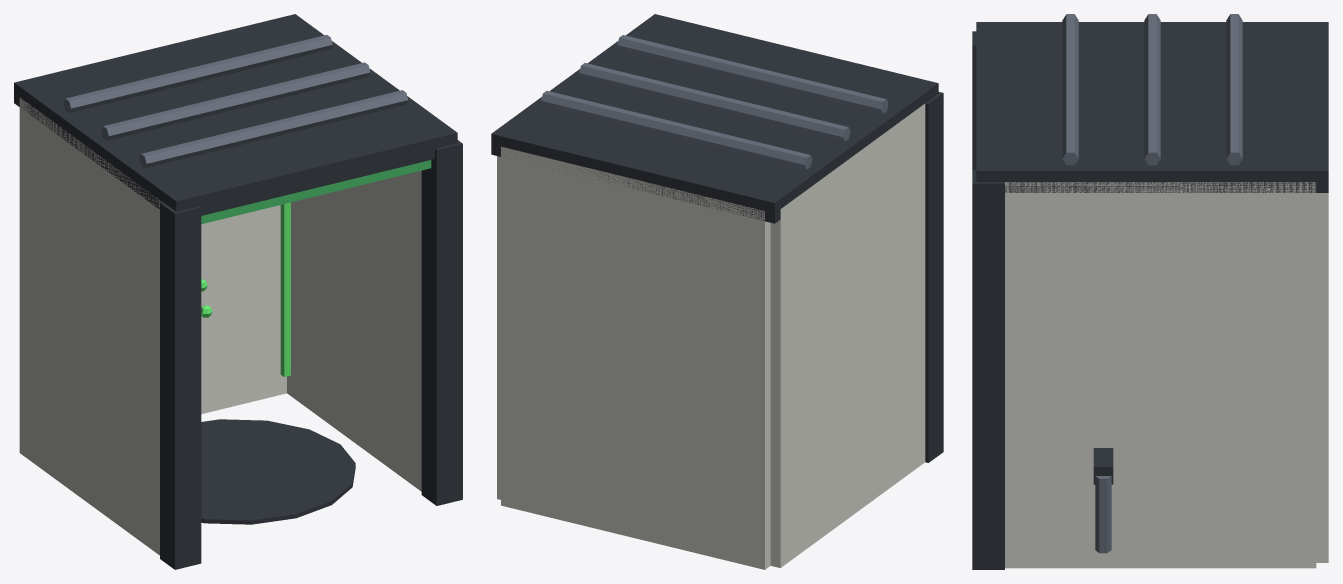
Rendered from machine_upgrade_booth.glb.
3 views of the same model, side by side, from view 1: azimuth 30°, elevation 25°; view 2: azimuth 150°, elevation 25°; view 3: azimuth 270°, elevation 25° (orthographic). The views are drawn at different scales.
Visible parts, largest first — view 1: machine_upgrade_booth; view 2: machine_upgrade_booth; view 3: machine_upgrade_booth.
Part boxes in pixels (<box>): machine_upgrade_booth: <box>14,14,462,569</box>; machine_upgrade_booth: <box>491,14,943,569</box>; machine_upgrade_booth: <box>972,14,1328,569</box>.
Bounding box in the file's own units: 2.49 × 2.76 × 2.17.
Materials: 1 (1 with a texture image).
